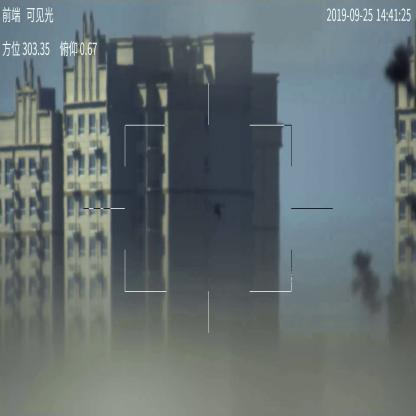uav: (207, 198, 229, 221)
